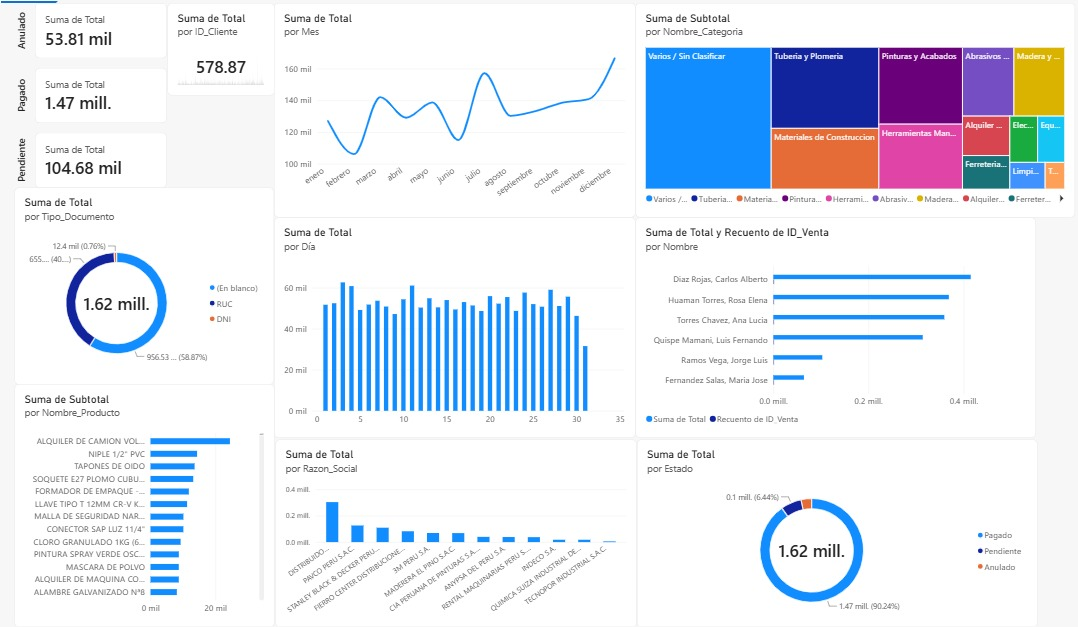

Layout of this report page (visuals, bound fields, positions):
{"tool":"powerbi","page":{"name":"Page 1","canvas":[1920,1080],"ordinal":0},"visuals":[{"type":"cardVisual","fields":{"Data":["Sum(Ventas.Total)"],"Rows":["Ventas.Estado"]},"box":[27.5,40,254.3,308.6],"z":0},{"type":"actionButton","box":[0,0,100,40],"z":1000},{"type":"kpi","fields":{"Indicator":["Sum(Ventas.Total)"],"TrendLine":["Ventas.ID_Cliente"]},"box":[282.5,40,178.6,154.3],"z":2000},{"type":"lineChart","fields":{"Category":["Ventas.Fecha_Venta.Variation.Jerarquía de fechas.Mes"],"Y":["Sum(Ventas.Total)"]},"box":[460,40,602.5,357.5],"z":3000},{"type":"columnChart","fields":{"Category":["Ventas.Fecha_Venta.Variation.Jerarquía de fechas.Día"],"Y":["Sum(Ventas.Total)"]},"box":[460,397.5,602.5,367.5],"z":4000},{"type":"donutChart","fields":{"Category":["Clientes.Tipo_Documento"],"Y":["Sum(Ventas.Total)"]},"box":[27.5,347.5,432.9,328.6],"z":5000},{"type":"clusteredBarChart","fields":{"Category":["Productos.Nombre_Producto"],"Y":["Sum(Detalle_Venta.Subtotal)"]},"box":[28.3,675,433.3,405],"z":6000},{"type":"treemap","fields":{"Group":["Categorias.Nombre_Categoria"],"Values":["Sum(Detalle_Venta.Subtotal)"]},"box":[1062.5,40,732.5,357.5],"z":7000},{"type":"clusteredBarChart","fields":{"Category":["Empleados.Nombre"],"Y":["Sum(Ventas.Total)","CountNonNull(Ventas.ID_Venta)"]},"box":[1062.5,397.5,667.5,367.5],"z":8000},{"type":"clusteredColumnChart","fields":{"Category":["Proveedores.Razon_Social"],"Y":["Sum(Compras.Total)"]},"box":[461.7,766.7,601.7,313.3],"z":9000},{"type":"donutChart","fields":{"Category":["Ventas.Estado"],"Y":["Sum(Ventas.Total)"]},"box":[1064,767,667,313],"z":10000}]}

Visuals, with their boxes on the page's 1920x1080 design canvas (x1, y1, x2, y2). These are canvas units, not pixel positions in the 1078x627 screenshot, which may show the page scaled, cropped or inside an application window:
cardVisual - Sum(Ventas.Total) x Ventas.Estado: 28 40 282 349
actionButton: 0 0 100 40
kpi - Sum(Ventas.Total) x Ventas.ID_Cliente: 282 40 461 194
lineChart - Ventas.Fecha_Venta.Variation.Jerarquía de fechas.Mes x Sum(Ventas.Total): 460 40 1062 398
columnChart - Ventas.Fecha_Venta.Variation.Jerarquía de fechas.Día x Sum(Ventas.Total): 460 398 1062 765
donutChart - Clientes.Tipo_Documento x Sum(Ventas.Total): 28 348 460 676
clusteredBarChart - Productos.Nombre_Producto x Sum(Detalle_Venta.Subtotal): 28 675 462 1080
treemap - Categorias.Nombre_Categoria x Sum(Detalle_Venta.Subtotal): 1062 40 1795 398
clusteredBarChart - Empleados.Nombre x Sum(Ventas.Total): 1062 398 1730 765
clusteredColumnChart - Proveedores.Razon_Social x Sum(Compras.Total): 462 767 1063 1080
donutChart - Ventas.Estado x Sum(Ventas.Total): 1064 767 1731 1080
